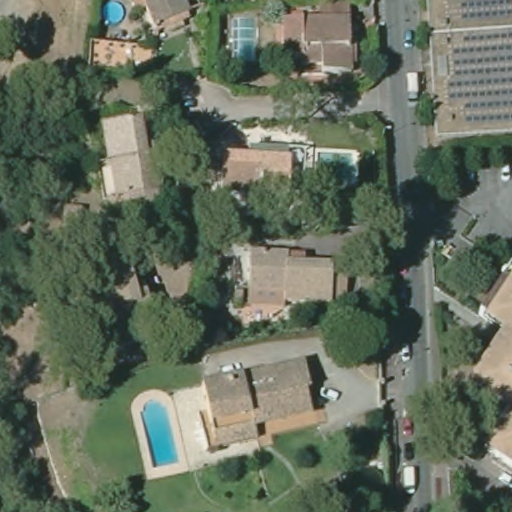pool: (138, 396, 182, 467), (226, 12, 264, 69), (315, 150, 359, 185), (101, 1, 126, 27)
